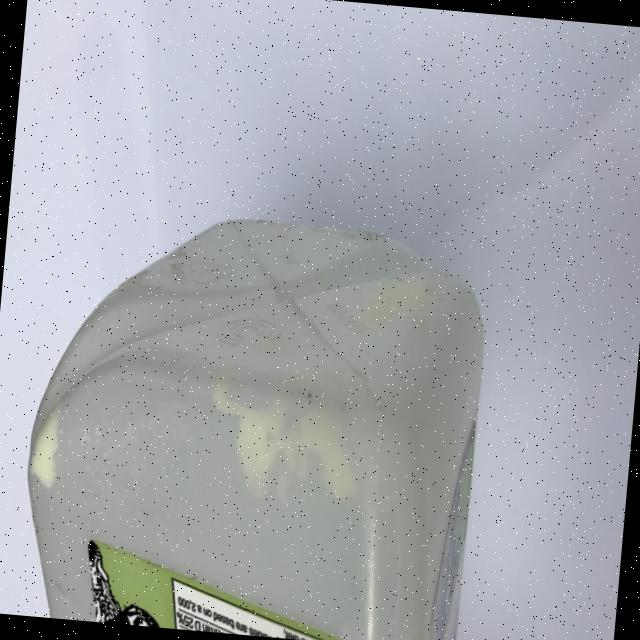plastic: (14, 199, 494, 640)
